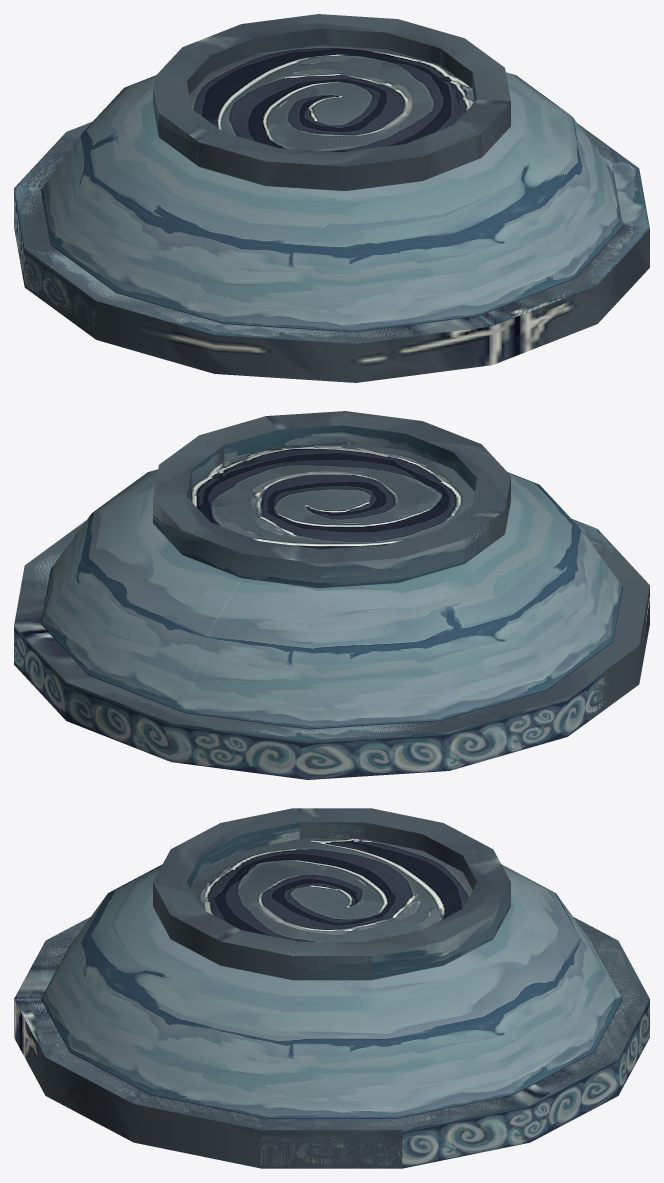
File: SM_CT_HouseTops.FBX
3 renders of one model, top to bottom at view 1: azimuth 30°, elevation 25°; view 2: azimuth 150°, elevation 25°; view 3: azimuth 270°, elevation 25°, orthographic.
Parts seen in each view (by area): view 1: SM_CT_HouseTop1, SM_CT_HouseTop2; view 2: SM_CT_HouseTop1, SM_CT_HouseTop2; view 3: SM_CT_HouseTop1, SM_CT_HouseTop2.
Boxes of the visible parts, x1,y1,x2,y2 form: SM_CT_HouseTop1: (14, 45, 649, 343); SM_CT_HouseTop2: (16, 14, 649, 382); SM_CT_HouseTop1: (14, 425, 627, 779); SM_CT_HouseTop2: (14, 411, 649, 739); SM_CT_HouseTop1: (14, 822, 649, 1168); SM_CT_HouseTop2: (14, 808, 649, 1168).
Bounding box in the file's own units: 438 × 121 × 449.
